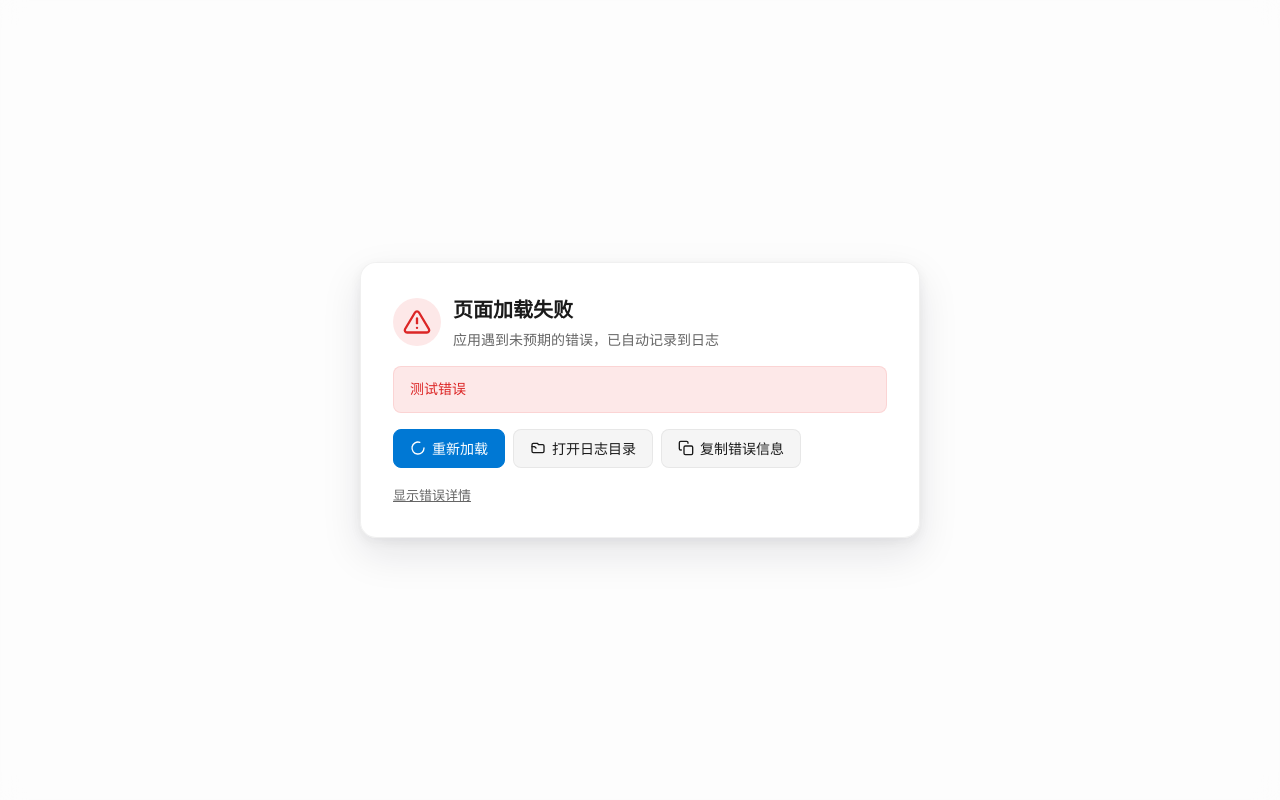
Test: ErrorFallback › 点击"显示错误详情"展开详情区域
Click the button "显示错误详情". click: {"x": 432, "y": 496}
box: [393, 486, 471, 505]
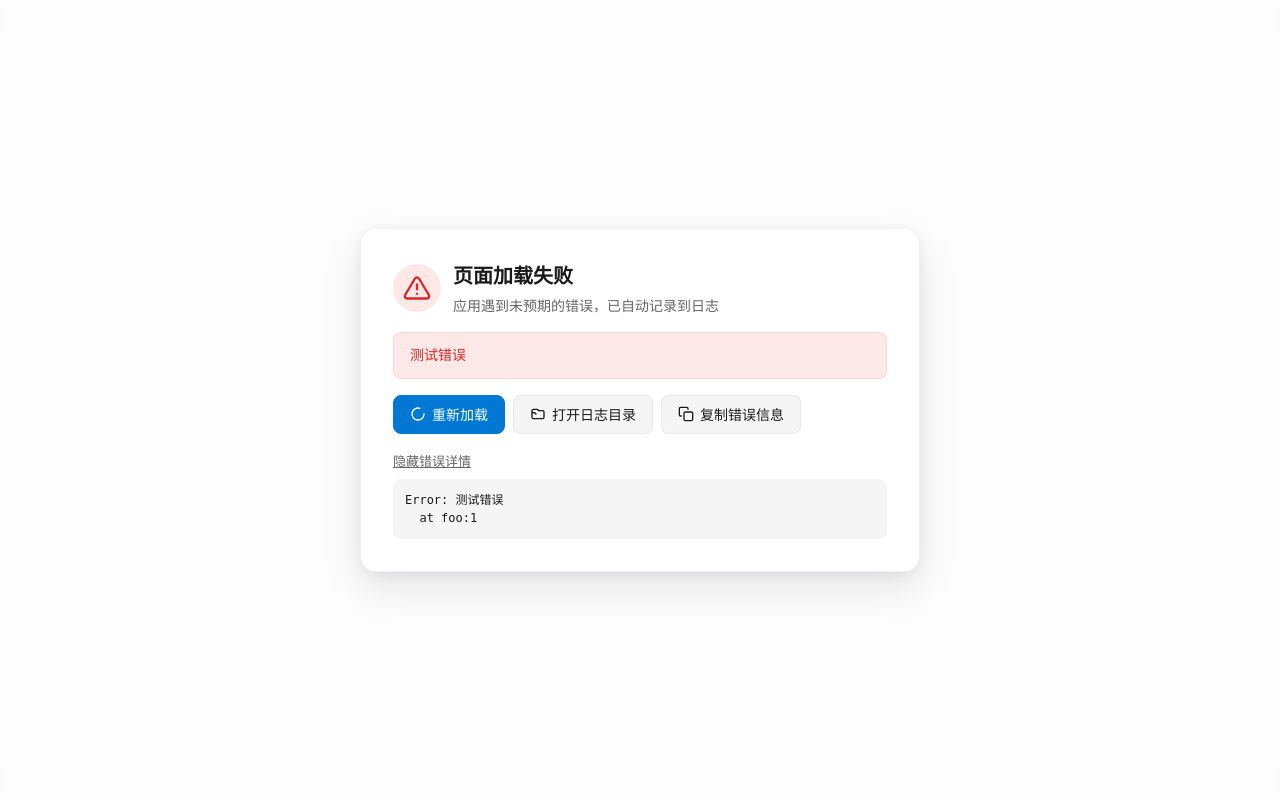
Expected: the button "隐藏错误详情" is shown, [393, 452, 471, 471]
